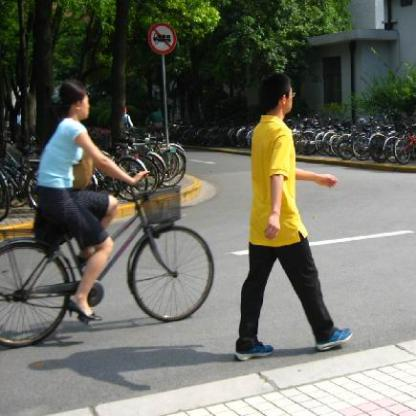person: (221, 69, 360, 361), (27, 77, 149, 325)
